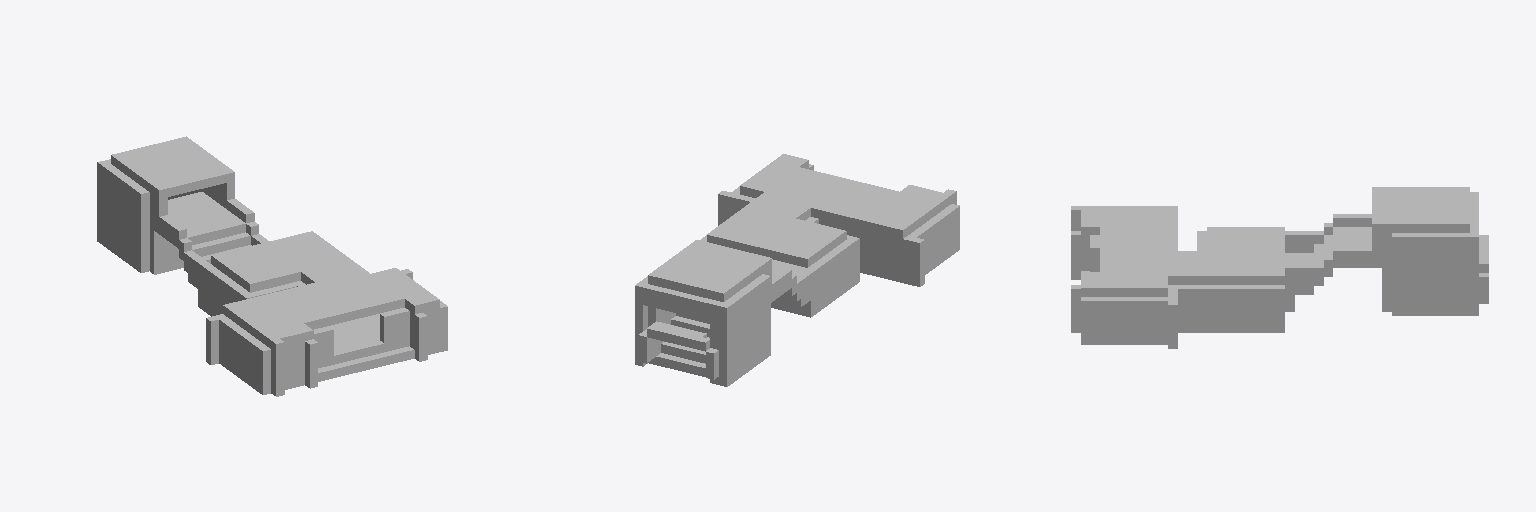
The model's file is center remake2.obj.
3 views of the same model, side by side, from view 1: azimuth 30°, elevation 25°; view 2: azimuth 150°, elevation 25°; view 3: azimuth 270°, elevation 25° (orthographic).
Visible parts, largest first — view 1: object 1; view 2: object 1; view 3: object 1.
Part boxes in pixels (bbox=[...]): object 1: bbox=[97, 136, 447, 396]; object 1: bbox=[635, 154, 959, 386]; object 1: bbox=[1071, 187, 1488, 348].
Bounding box in the file's own units: 2.4 × 1 × 4.3.